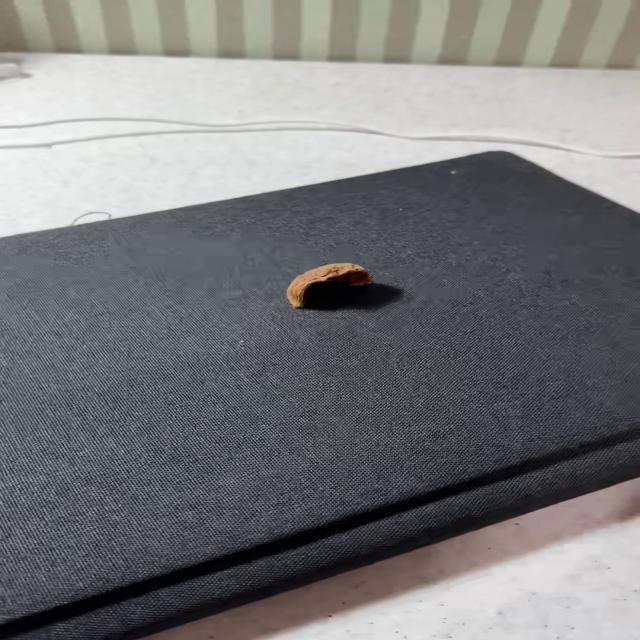nuts-bad0.25: (286, 263, 372, 308)
